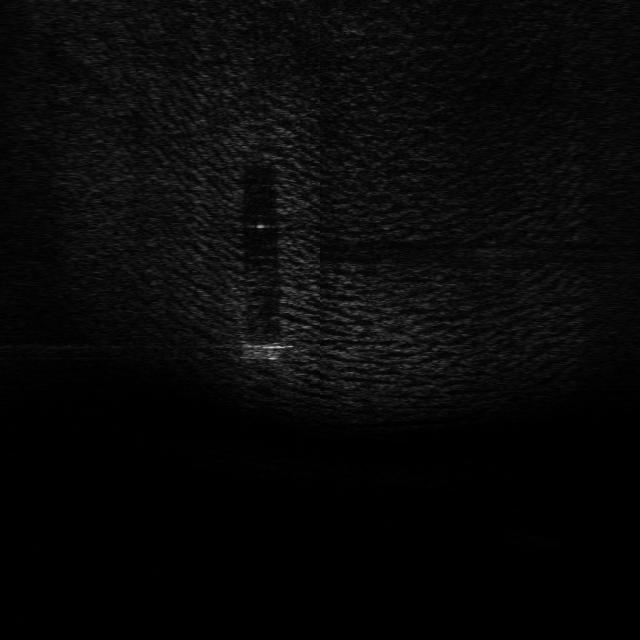cube: (239, 334, 283, 362)
